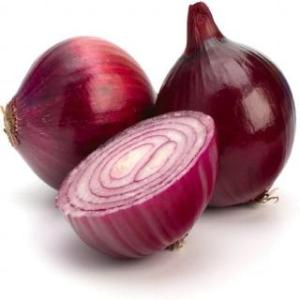onion: (148, 2, 298, 208), (54, 107, 224, 267), (3, 34, 153, 194)
